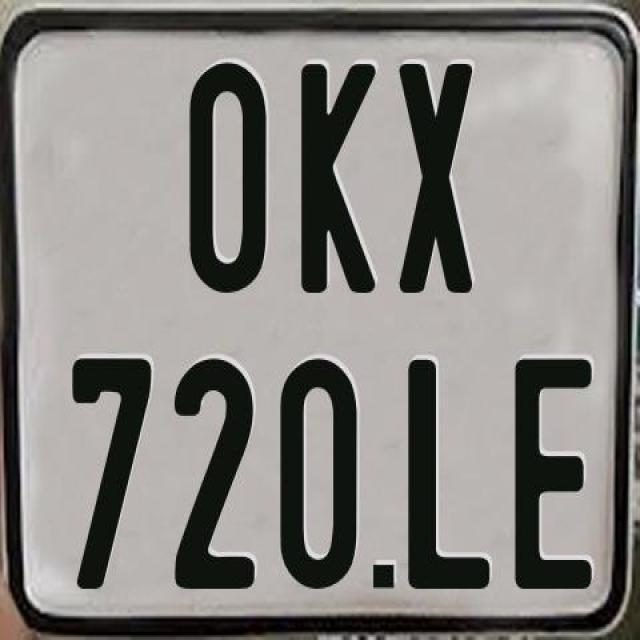0: (185, 59, 268, 296), (277, 355, 359, 587)
2: (175, 356, 262, 594)
7: (70, 357, 154, 596)
E: (513, 356, 595, 588)
K: (299, 61, 382, 300)
L: (405, 360, 492, 597)
X: (395, 62, 473, 293)
